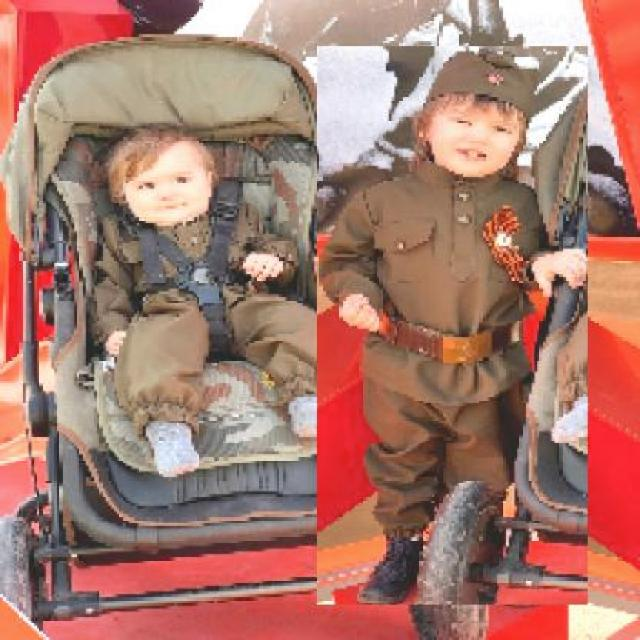child: (315, 47, 588, 607), (87, 122, 350, 478)
